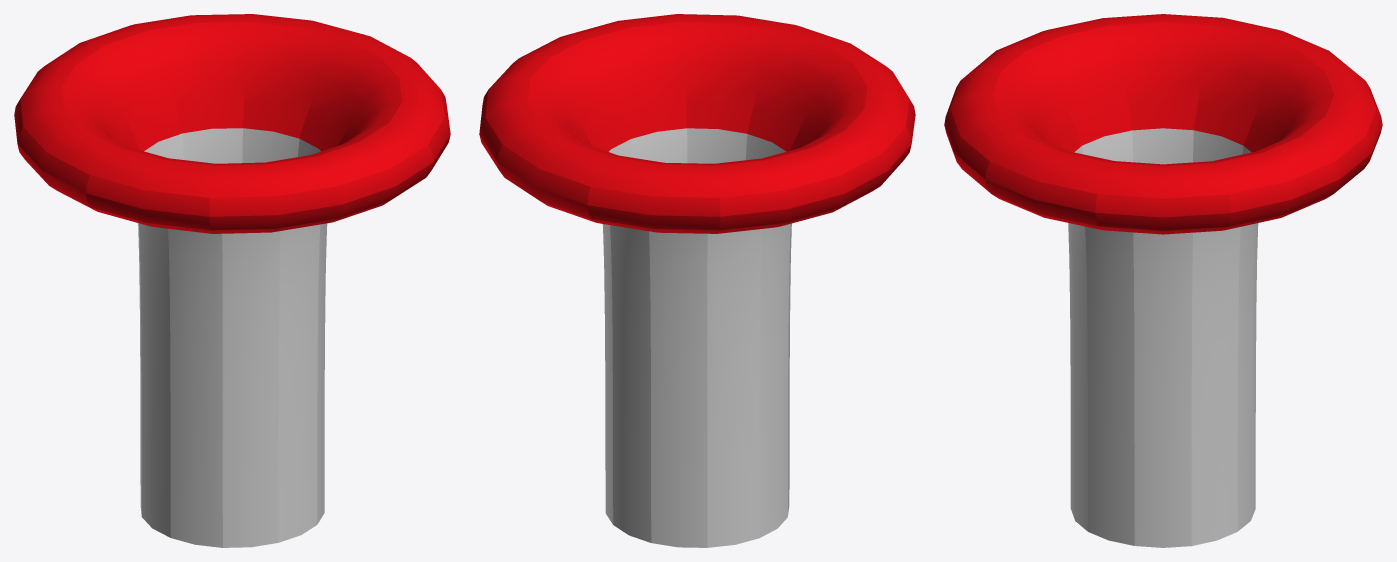
Rendered from Valve.fbx.
The picture shows the model from 3 angles, left to right: view 1: azimuth 30°, elevation 25°; view 2: azimuth 150°, elevation 25°; view 3: azimuth 270°, elevation 25°; orthographic projection.
Parts seen in each view (by area): view 1: valve; view 2: valve; view 3: valve.
Part boxes in pixels (x1,y1,x2,y2): valve: (14, 14, 450, 547); valve: (479, 14, 915, 547); valve: (944, 14, 1382, 547).
Bounding box in the file's own units: 145 × 151 × 145.
